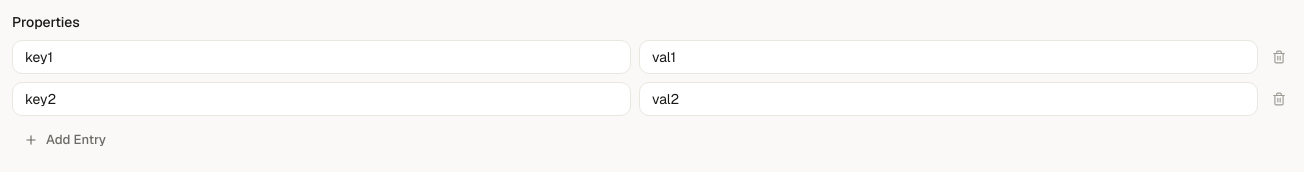
Scenario: KeyValueField › removes entry when trash button clicked
Expected: the number of fields with placeholder "Key" is 2, left=12, top=40, right=631, bottom=74; left=12, top=82, right=631, bottom=116
Step 1. Click the 1st button → (1279, 57), box left=1266, top=44, right=1292, bottom=70
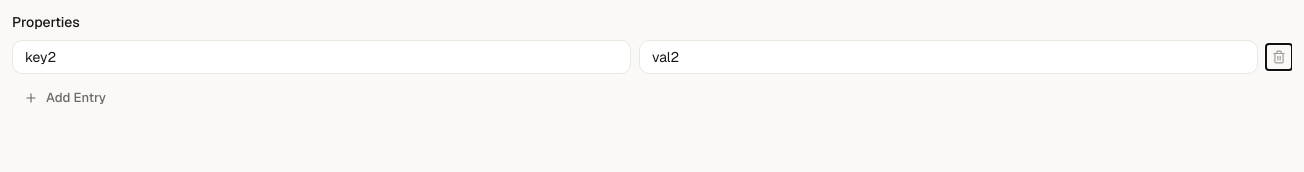
Now the number of fields with placeholder "Key" is 1, box left=12, top=40, right=631, bottom=74
